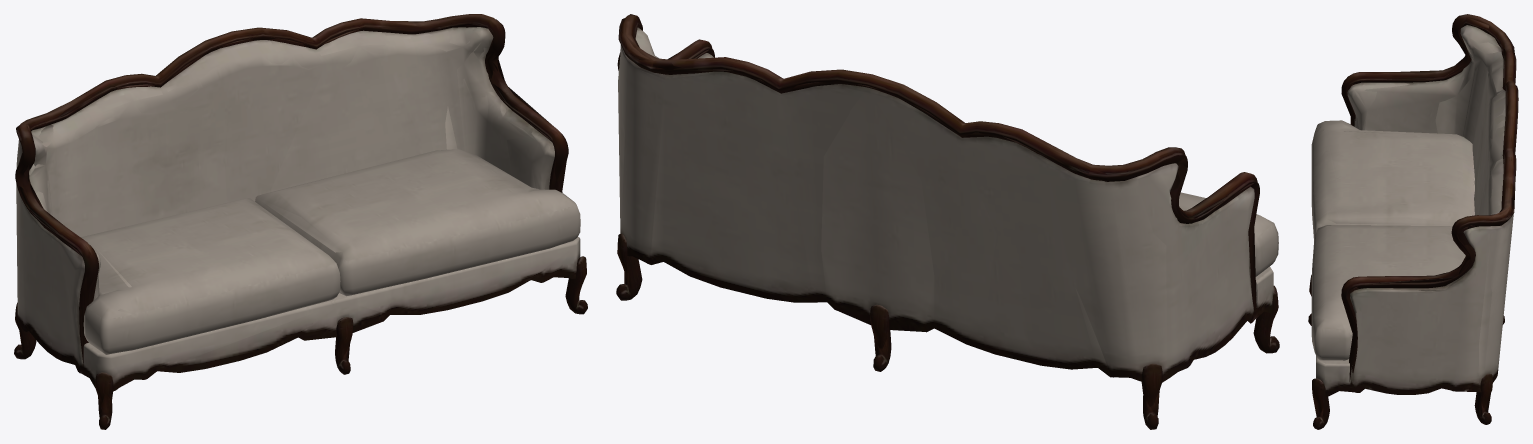
File: Sofa_01.glb
3 renders of one model, left to right at view 1: azimuth 30°, elevation 25°; view 2: azimuth 150°, elevation 25°; view 3: azimuth 270°, elevation 25°, orthographic. The views are drawn at different scales.
Visible parts, largest first — view 1: Sofa_01, Sofa_01_lo; view 2: Sofa_01, Sofa_01_lo; view 3: Sofa_01, Sofa_01_lo.
Part boxes in pixels (x1,y1,x2,y2): Sofa_01: [14, 14, 587, 429]; Sofa_01_lo: [16, 14, 582, 429]; Sofa_01: [616, 14, 1279, 429]; Sofa_01_lo: [619, 14, 1273, 416]; Sofa_01: [1308, 14, 1518, 429]; Sofa_01_lo: [1311, 14, 1518, 424].
Bounding box in the file's own units: 1.57 × 0.7966 × 0.658.
Materials: 1 (1 with a texture image).
